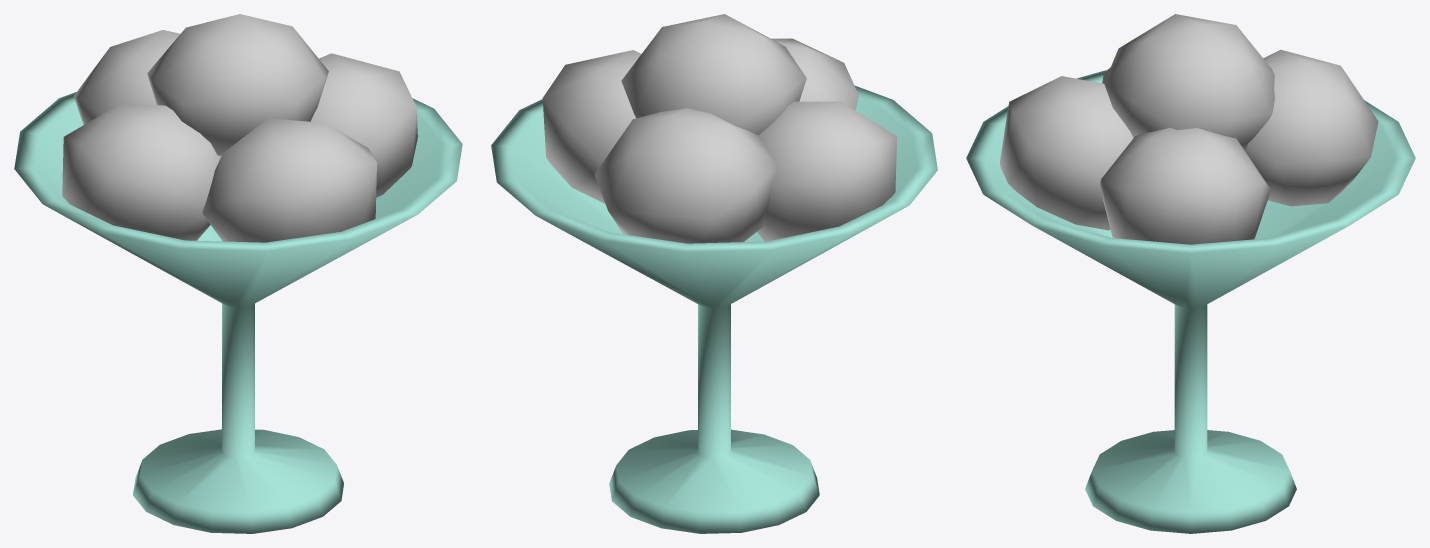
File: Cup-Ice-Cream.fbx
3 renders of one model, left to right at view 1: azimuth 30°, elevation 25°; view 2: azimuth 150°, elevation 25°; view 3: azimuth 270°, elevation 25°, orthographic.
Parts seen in each view (by area): view 1: Mixed-Ice-Cream, Cup-Ice-Cream; view 2: Mixed-Ice-Cream, Cup-Ice-Cream; view 3: Mixed-Ice-Cream, Cup-Ice-Cream.
Boxes of the visible parts, <box> form: Mixed-Ice-Cream: <box>62,14,417,242</box>; Cup-Ice-Cream: <box>14,92,462,533</box>; Mixed-Ice-Cream: <box>542,14,896,243</box>; Cup-Ice-Cream: <box>491,85,937,533</box>; Mixed-Ice-Cream: <box>1000,14,1378,244</box>; Cup-Ice-Cream: <box>966,70,1415,533</box>.
Bounding box in the file's own units: 0.1525 × 0.1749 × 0.1525.
